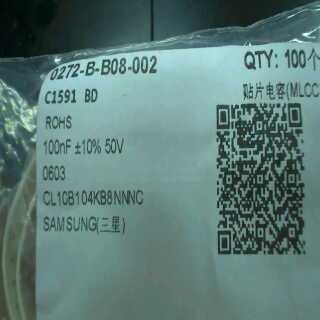100nF: (40, 134, 73, 159)
